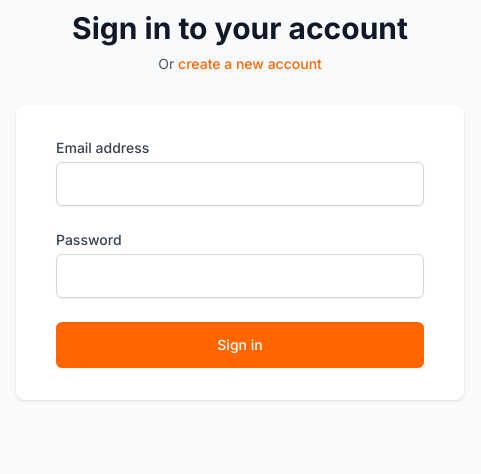
Test case: Login Page › Form Validation › should show error when email format is invalid
Type "invalid-email" into the field labelled "Email address".
click(240, 184); type("invalid-email")  # box [56,162,424,206]
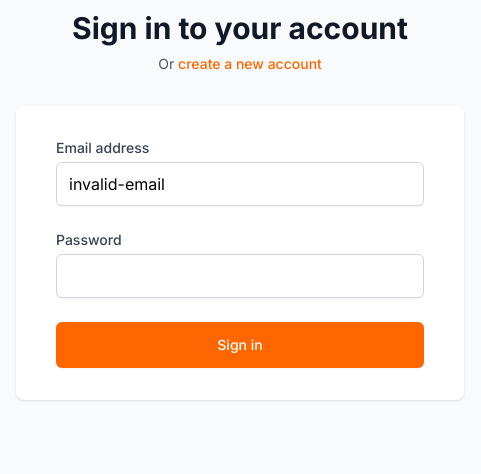
Click the button "Sign in".
click(240, 345)  # box [56,322,424,368]
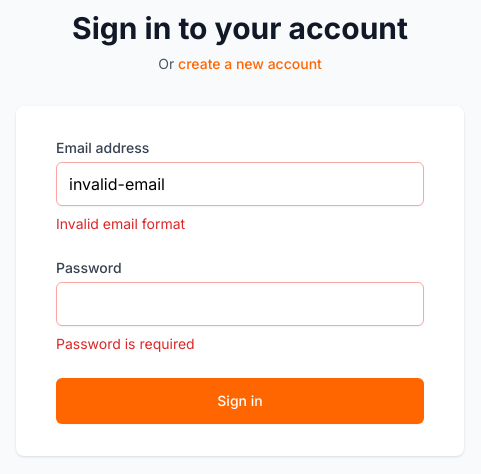
Expected: the text "Invalid email format" is shown, [56,215,185,232]
